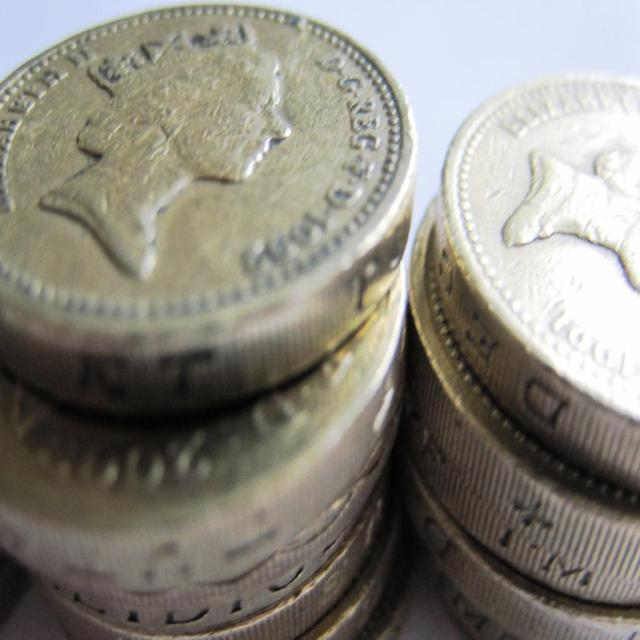Coin: (0, 0, 640, 639), (0, 4, 640, 639)
